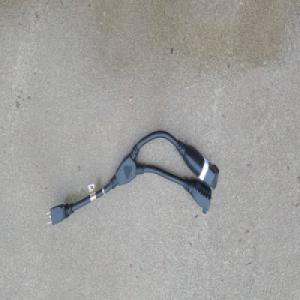Wire: (44, 126, 219, 226)
